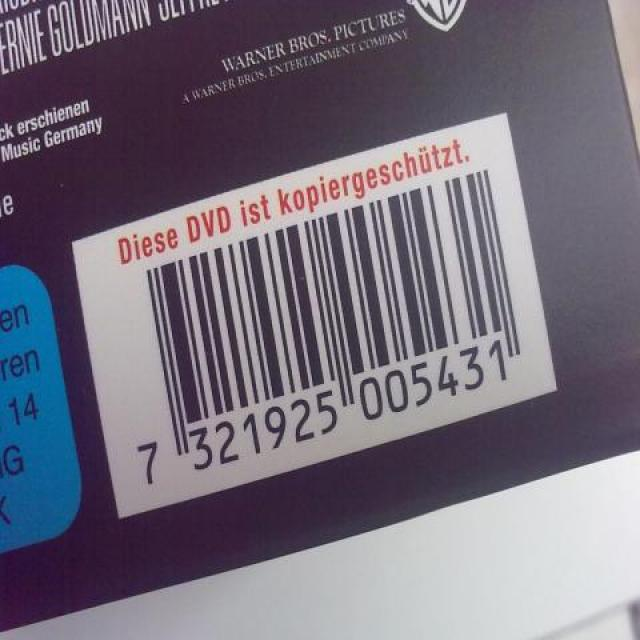Barcode: (69, 116, 560, 523)
